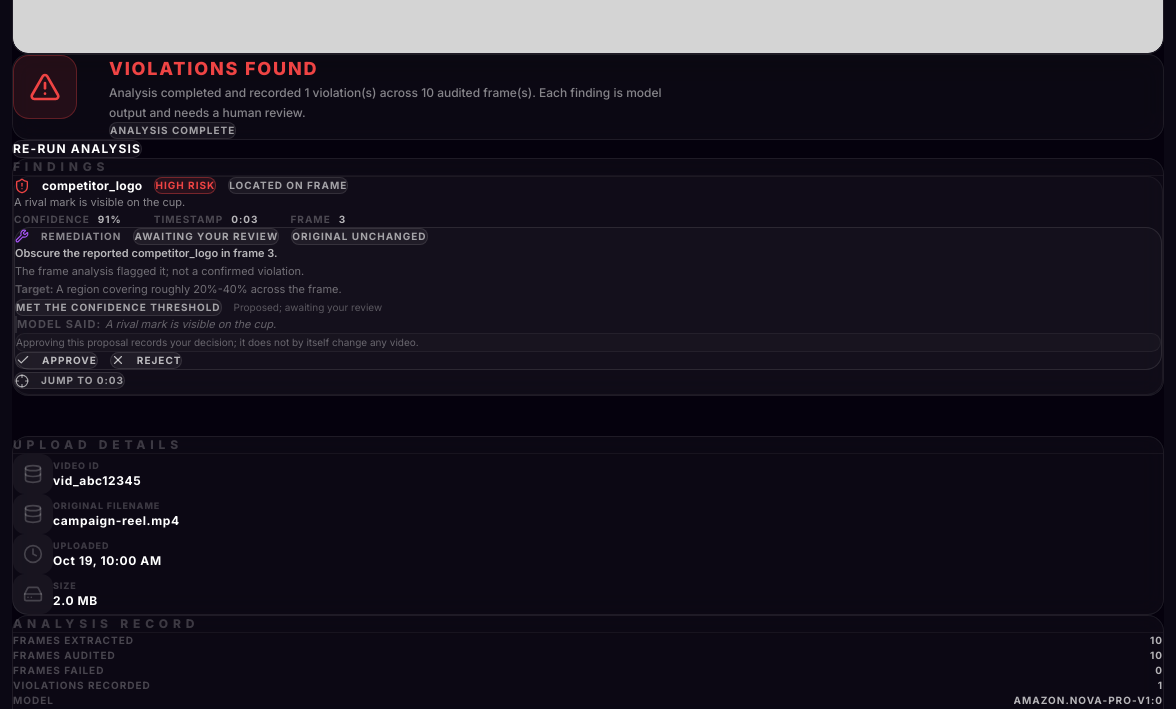
remediation on a completed audit › never describes the video as corrected after any decision
(page scrolled)
Click the button with test id "approve-rem_abc123abc123" at {"x": 56, "y": 360}, box [15,352,98,369]
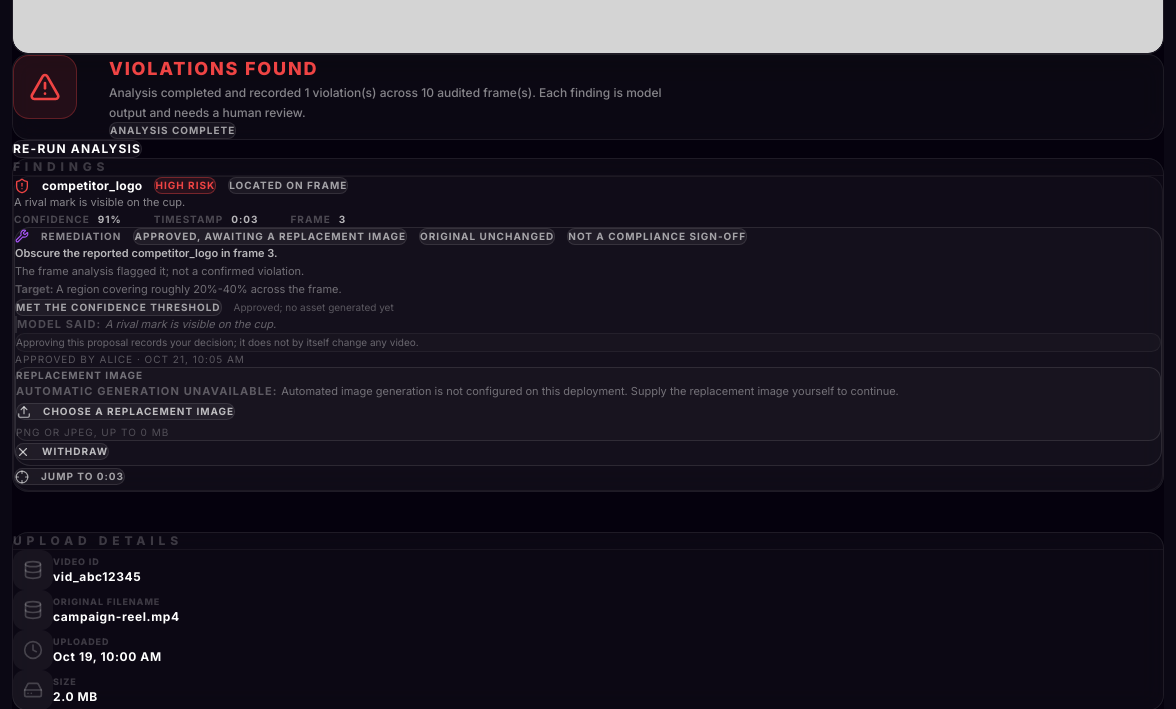
Expected: the text "Original unchanged" is shown, [419,228,555,245]
Expected: the text "Approved, awaiting a replacement image" is shown, [134,228,407,245]
